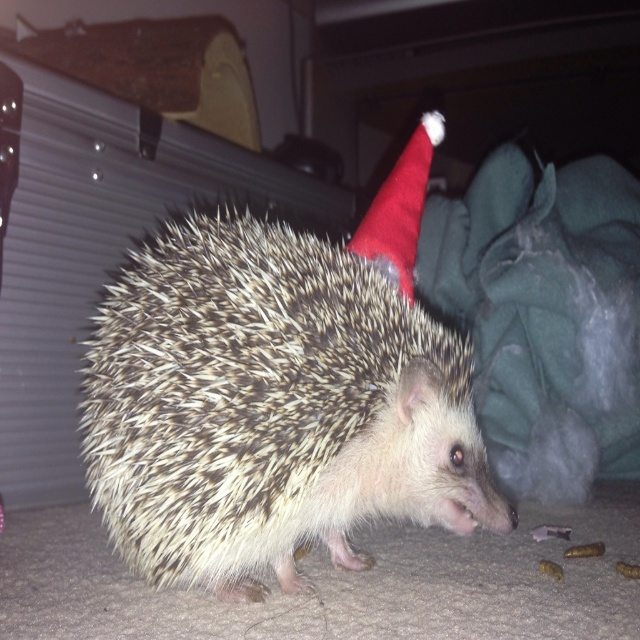Hedgehog: (75, 201, 520, 606)
